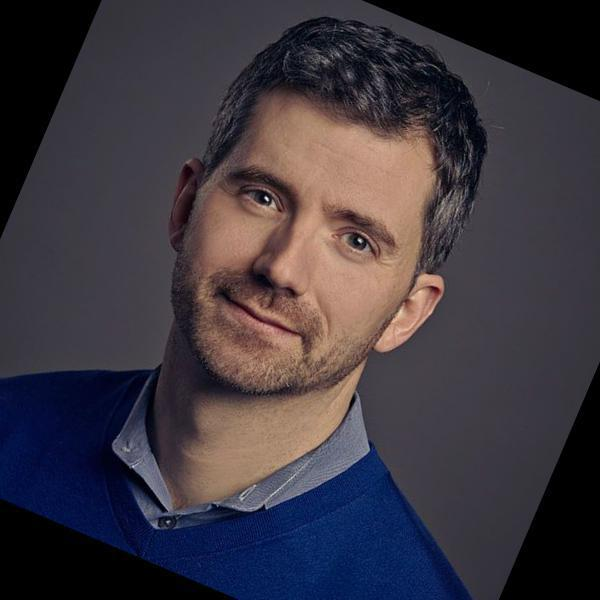Sober: (209, 94, 410, 373)
